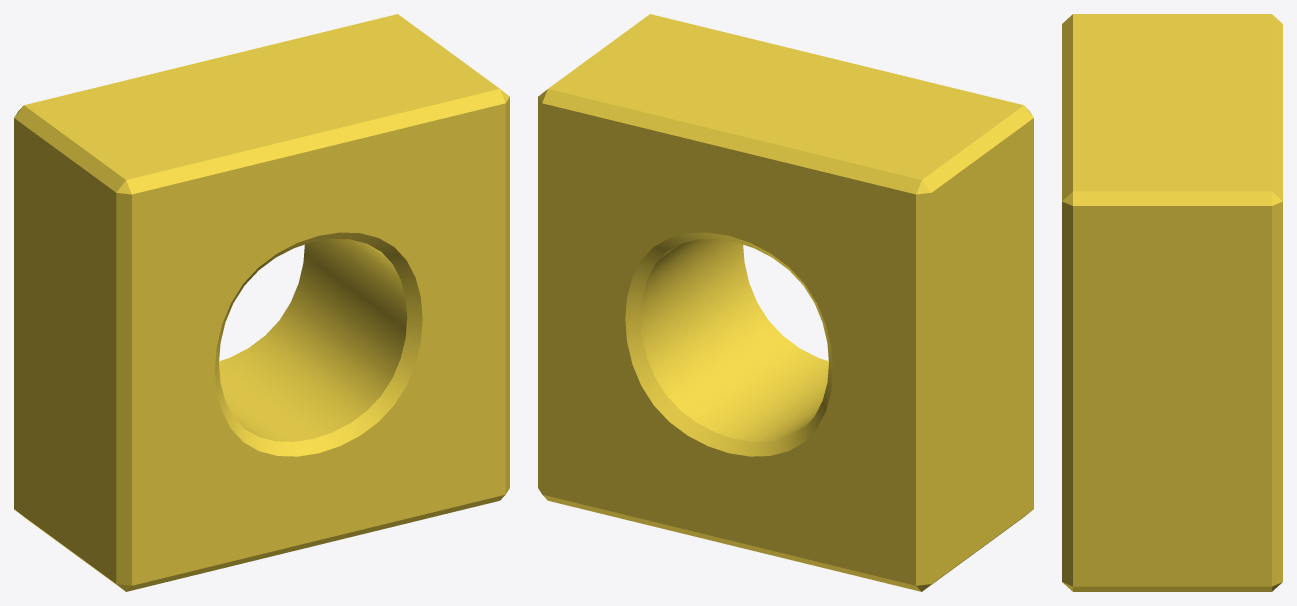
Rendered from 2x2x1_Square_Window.fbx.
3 renders of one model, left to right at view 1: azimuth 30°, elevation 25°; view 2: azimuth 150°, elevation 25°; view 3: azimuth 270°, elevation 25°, orthographic. The views are drawn at different scales.
Visible parts, largest first — view 1: 2x2x1_Square_Window; view 2: 2x2x1_Square_Window; view 3: 2x2x1_Square_Window.
Boxes of the visible parts, <box> form: 2x2x1_Square_Window: <box>14,14,509,591</box>; 2x2x1_Square_Window: <box>538,14,1033,591</box>; 2x2x1_Square_Window: <box>1062,14,1282,591</box>.
Bounding box in the file's own units: 0.2 × 0.2 × 0.1.
1 material, 1 textured.
